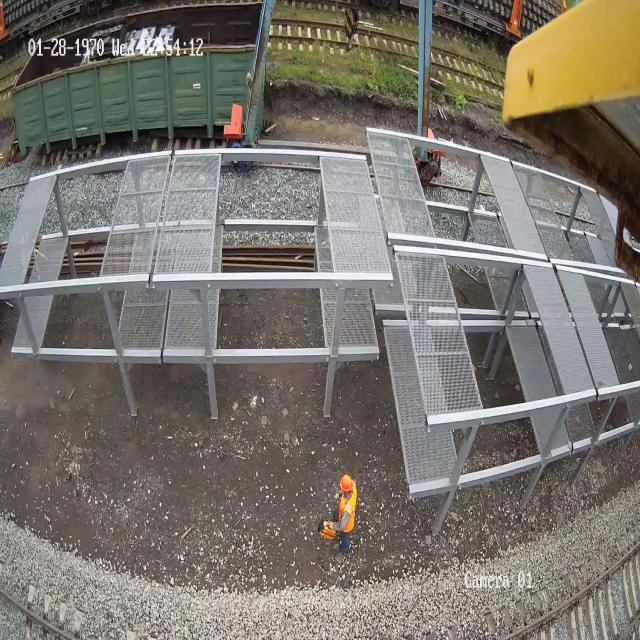Helmet: (340, 473, 352, 492)
Person: (324, 473, 357, 552)
